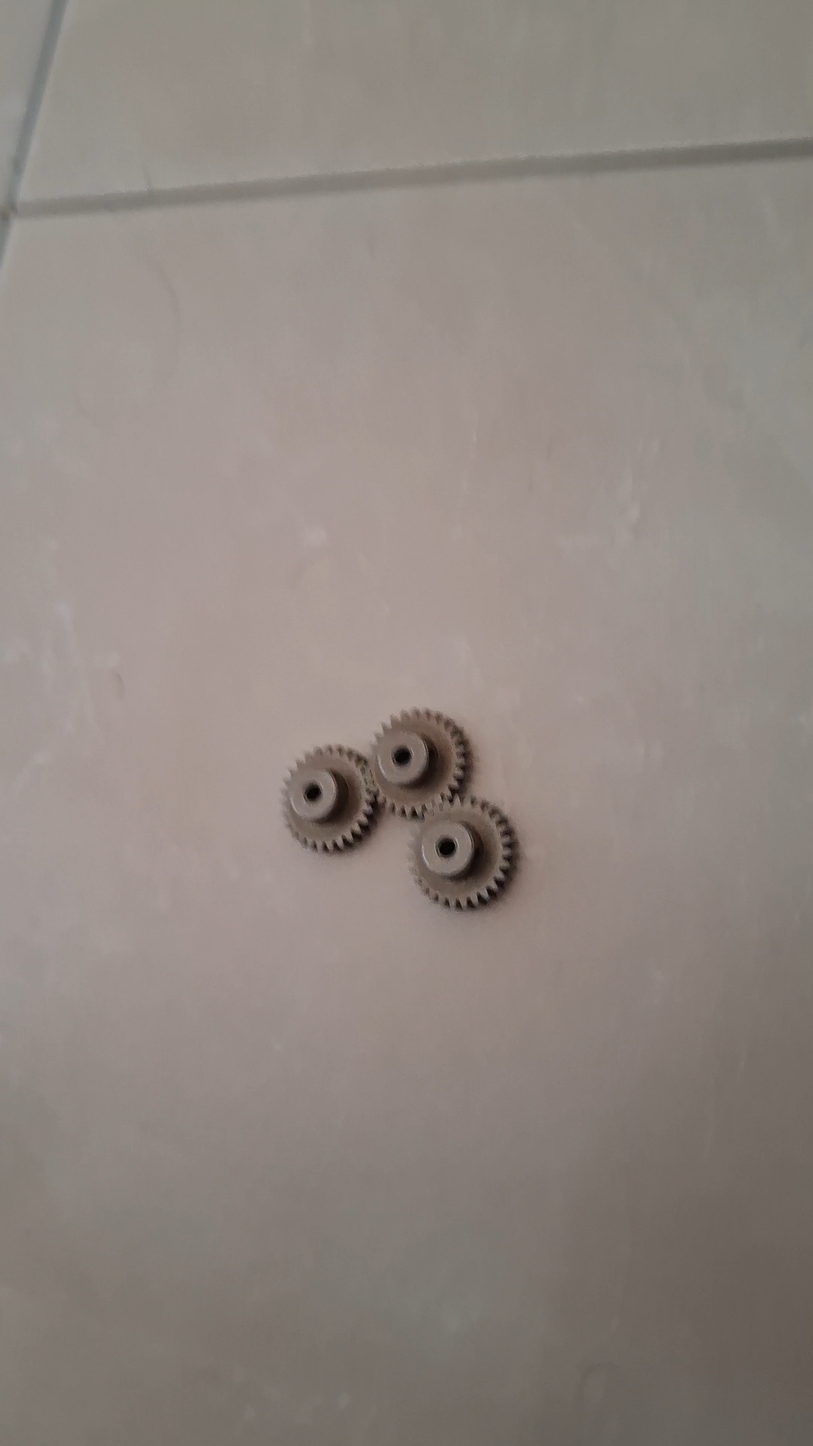spur gear: (410, 797, 515, 909), (371, 710, 468, 817), (283, 746, 376, 852)
